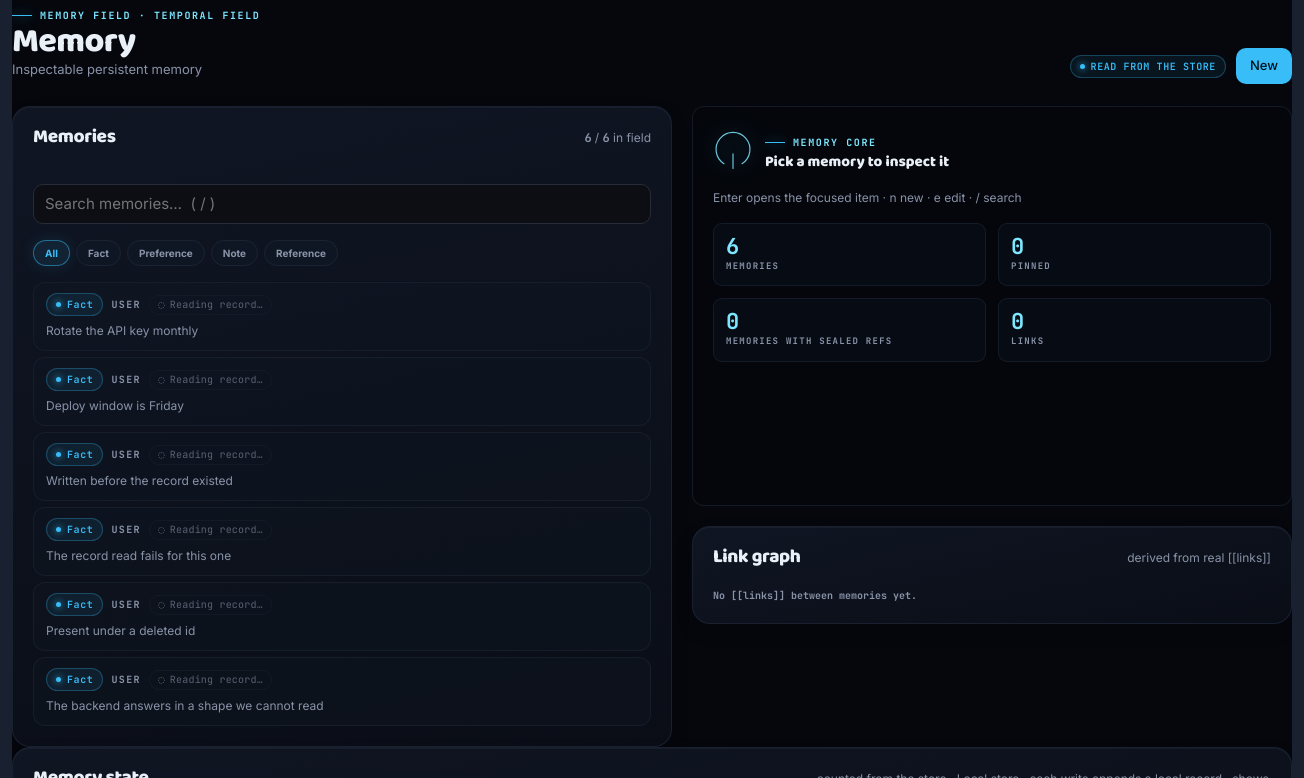
Memory — a failed read is a fault, never an empty ledger › surfaces the backend’s own reason for the row that rejected
The image size is (1304, 778).
What coordinates should you click on to do the following:
click the text "The record read fails for this one"
I would click on:
 (139, 556)
Its box is x1=46 y1=547 x2=231 y2=565.
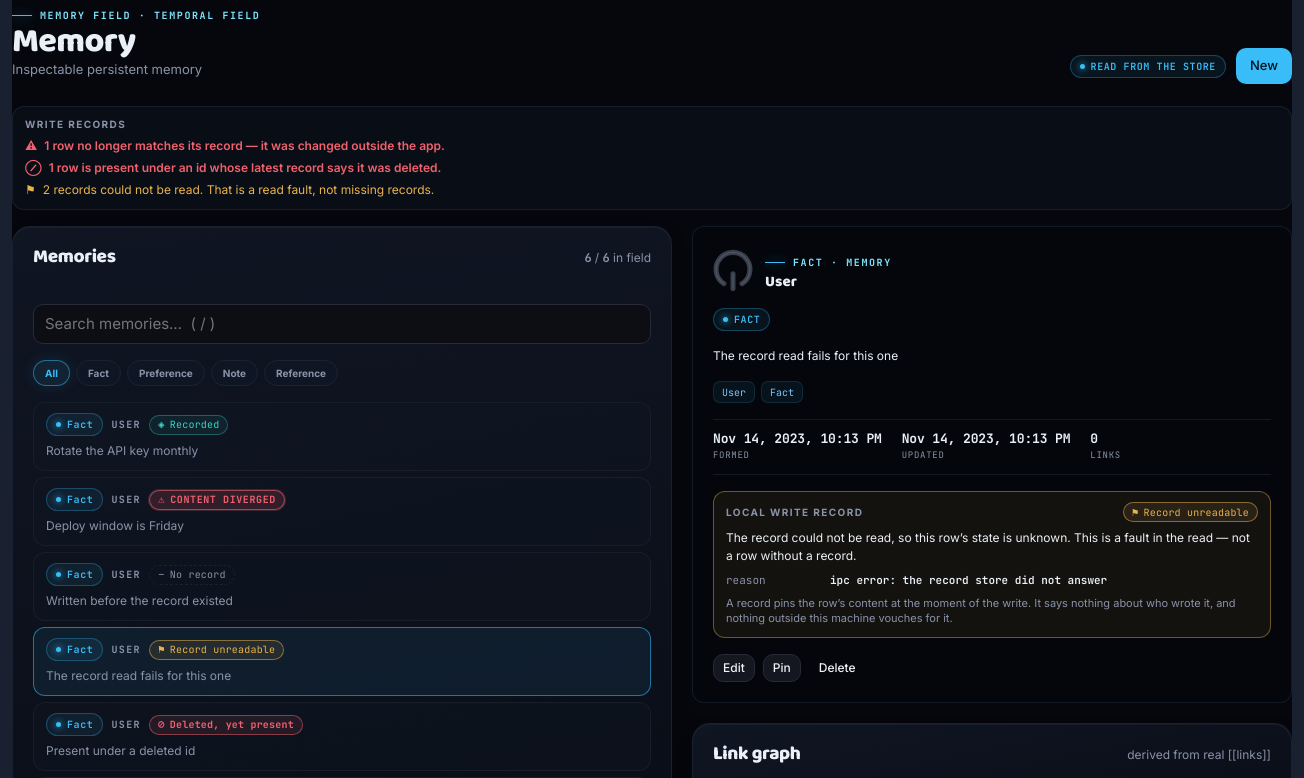
Check: the button "Delete" is shown, box x1=809 y1=654 x2=866 y2=682
